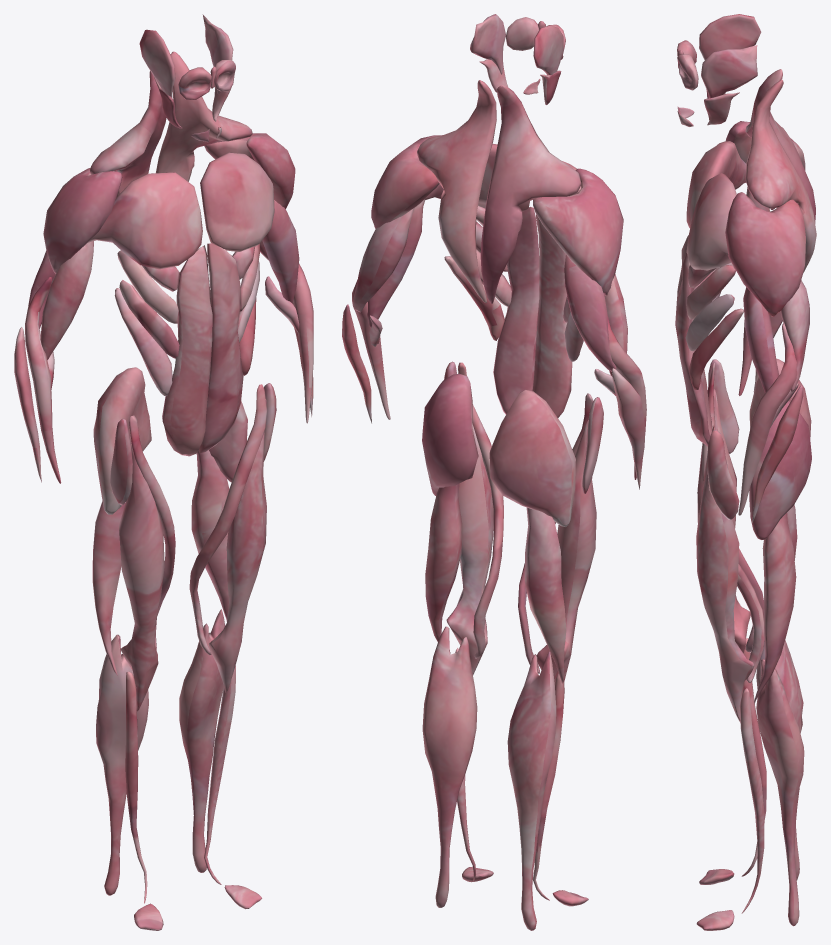
File: muscle_1.glb
3 views of the same model, side by side, from view 1: azimuth 30°, elevation 25°; view 2: azimuth 150°, elevation 25°; view 3: azimuth 270°, elevation 25° (orthographic).
Visible parts, largest first — view 1: model_13.001; view 2: model_13.001; view 3: model_13.001.
Boxes of the visible parts, x1,y1,x2,y2 form: model_13.001: [14, 14, 313, 930]; model_13.001: [342, 14, 646, 930]; model_13.001: [675, 14, 816, 930].
Size of the model in its own units: 58 by 167 by 24.36.
1 material, 1 textured.
